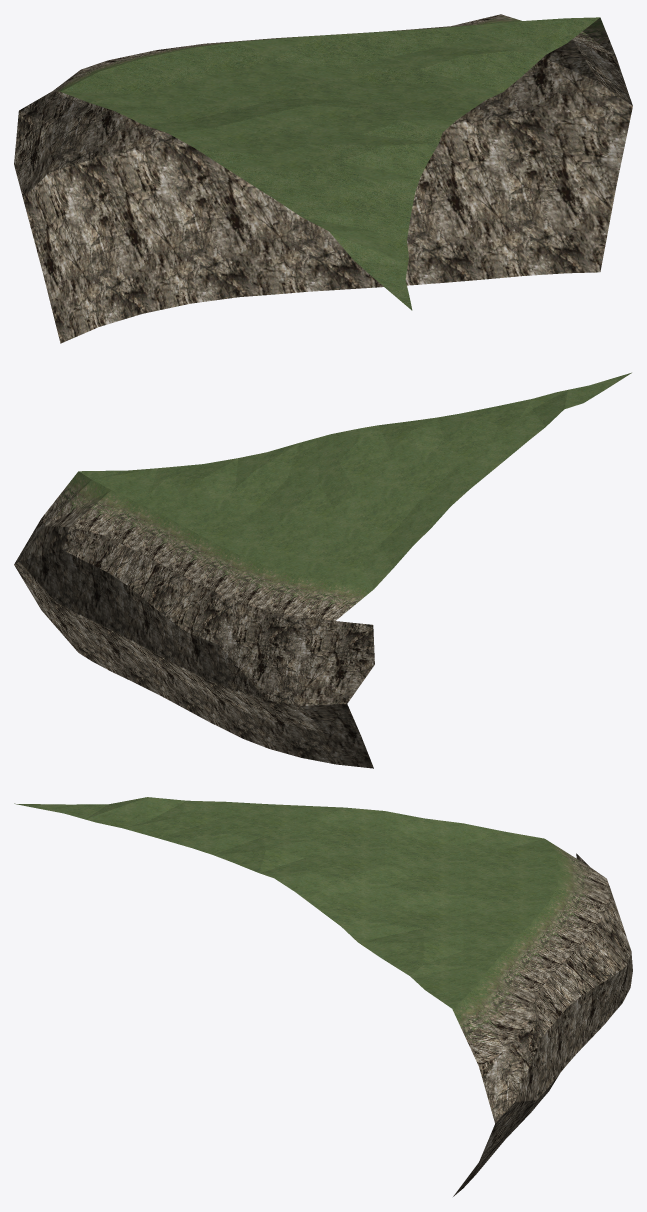
The model's file is a_carisle_mid_landmass_02_05.fbx.
The picture shows the model from 3 angles, top to bottom: view 1: azimuth 30°, elevation 25°; view 2: azimuth 150°, elevation 25°; view 3: azimuth 270°, elevation 25°; orthographic projection. The views are drawn at different scales.
Parts seen in each view (by area): view 1: a_carisle_mid_landmass_02_05; view 2: a_carisle_mid_landmass_02_05; view 3: a_carisle_mid_landmass_02_05.
Part boxes in pixels (x1,y1,x2,y2): a_carisle_mid_landmass_02_05: [14, 14, 632, 343]; a_carisle_mid_landmass_02_05: [14, 372, 631, 768]; a_carisle_mid_landmass_02_05: [14, 797, 632, 1196].
Bounding box in the file's own units: 24.89 × 31.96 × 13.02.
